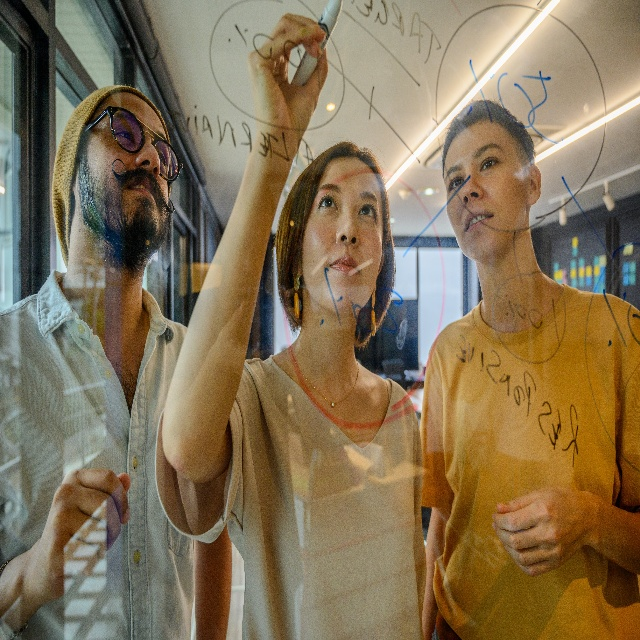Gafas: (83, 105, 183, 183)
Sin_guantes: (33, 463, 136, 597), (245, 11, 331, 152), (490, 478, 587, 583)
